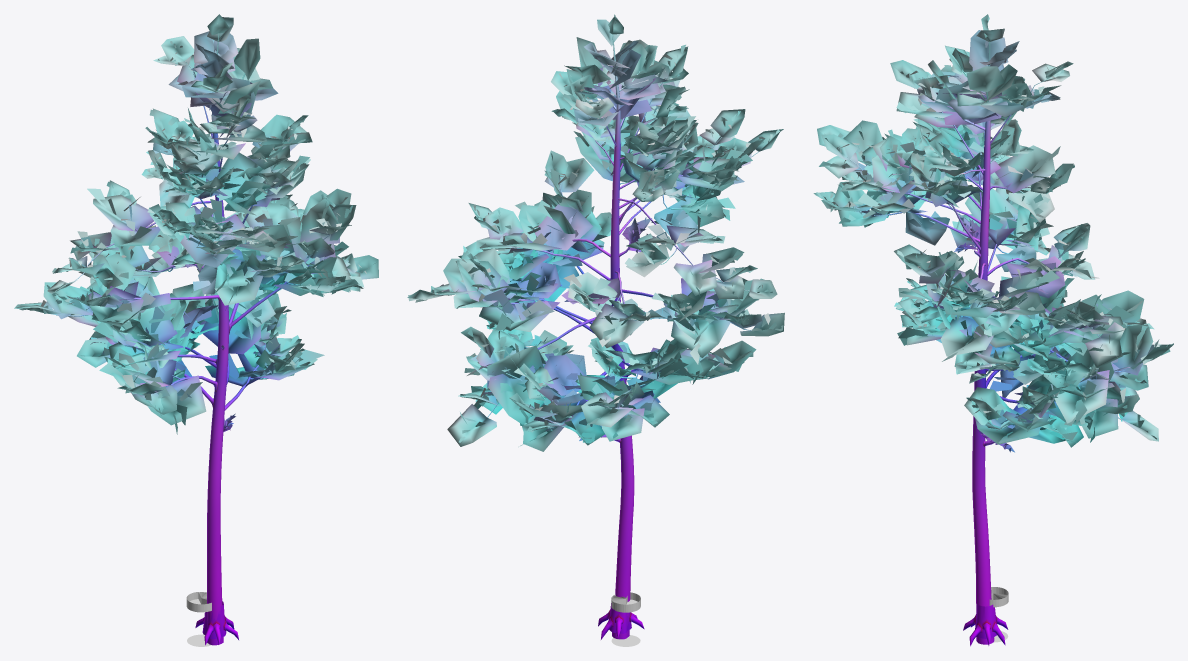
File: KIT_PineLarge1.fbx
The picture shows the model from 3 angles, left to right: view 1: azimuth 30°, elevation 25°; view 2: azimuth 150°, elevation 25°; view 3: azimuth 270°, elevation 25°; orthographic projection.
Parts seen in each view (by area): view 1: Upper_LOD0, Stump_LOD0; view 2: Upper_LOD0, Stump_LOD0; view 3: Upper_LOD0, Stump_LOD0.
Part boxes in pixels (x1,y1,x2,y2): Upper_LOD0: [14, 14, 378, 645]; Stump_LOD0: [195, 601, 238, 645]; Upper_LOD0: [407, 14, 784, 639]; Stump_LOD0: [598, 603, 644, 639]; Upper_LOD0: [813, 14, 1173, 644]; Stump_LOD0: [963, 604, 1008, 646].
Size of what is drawn, in the model's own units: 983 by 1695 by 880.
